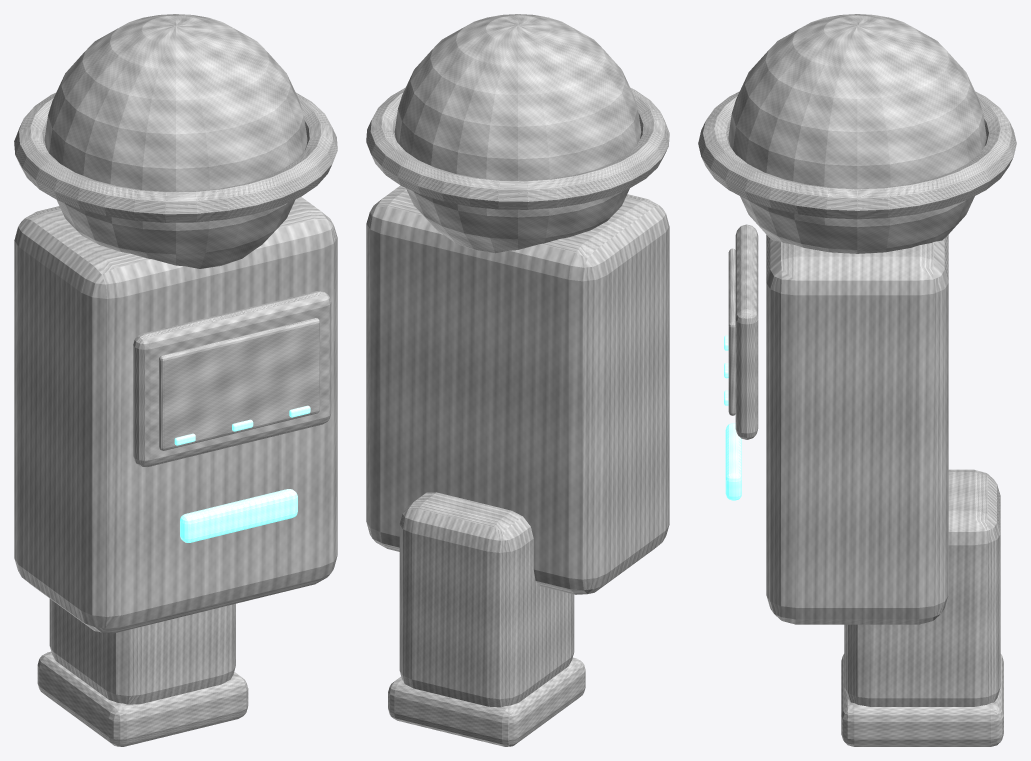
The model's file is object_scanner_variant_c.glb.
3 renders of one model, left to right at view 1: azimuth 30°, elevation 25°; view 2: azimuth 150°, elevation 25°; view 3: azimuth 270°, elevation 25°, orthographic. The views are drawn at different scales.
Parts seen in each view (by area): view 1: Main housing.002, Scanner sensor orb, Display glass.002, Orb protective ring, Pistol grip.002, Display bezel.002, Grip end cap.002, Status strip; view 2: Main housing.002, Scanner sensor orb, Pistol grip.002, Orb protective ring, Grip end cap.002; view 3: Main housing.002, Scanner sensor orb, Pistol grip.002, Orb protective ring, Grip end cap.002, Display bezel.002, Display glass.002, Status strip.
Boxes of the visible parts, x1=… form: Main housing.002: x1=14, y1=197, x2=337, y2=633; Scanner sensor orb: x1=44, y1=14, x2=307, y2=268; Display glass.002: x1=159, y1=318, x2=319, y2=450; Orb protective ring: x1=14, y1=92, x2=337, y2=222; Pistol grip.002: x1=49, y1=599, x2=235, y2=704; Display bezel.002: x1=133, y1=291, x2=331, y2=466; Grip end cap.002: x1=37, y1=651, x2=248, y2=746; Status strip: x1=180, y1=489, x2=297, y2=542; Main housing.002: x1=366, y1=185, x2=669, y2=594; Scanner sensor orb: x1=394, y1=14, x2=641, y2=253; Pistol grip.002: x1=399, y1=492, x2=574, y2=707; Orb protective ring: x1=366, y1=87, x2=669, y2=209; Grip end cap.002: x1=388, y1=657, x2=585, y2=746; Main housing.002: x1=766, y1=235, x2=948, y2=624; Scanner sensor orb: x1=728, y1=14, x2=986, y2=253; Pistol grip.002: x1=844, y1=469, x2=1000, y2=706; Orb protective ring: x1=698, y1=91, x2=1016, y2=219; Grip end cap.002: x1=841, y1=654, x2=1003, y2=746; Display bezel.002: x1=735, y1=224, x2=758, y2=439; Display glass.002: x1=728, y1=248, x2=735, y2=415; Status strip: x1=725, y1=423, x2=741, y2=500.
Size of what is drawn, in the model's own units: 0.49 by 1.17 by 0.49.
Materials: 8 (8 with a texture image).
